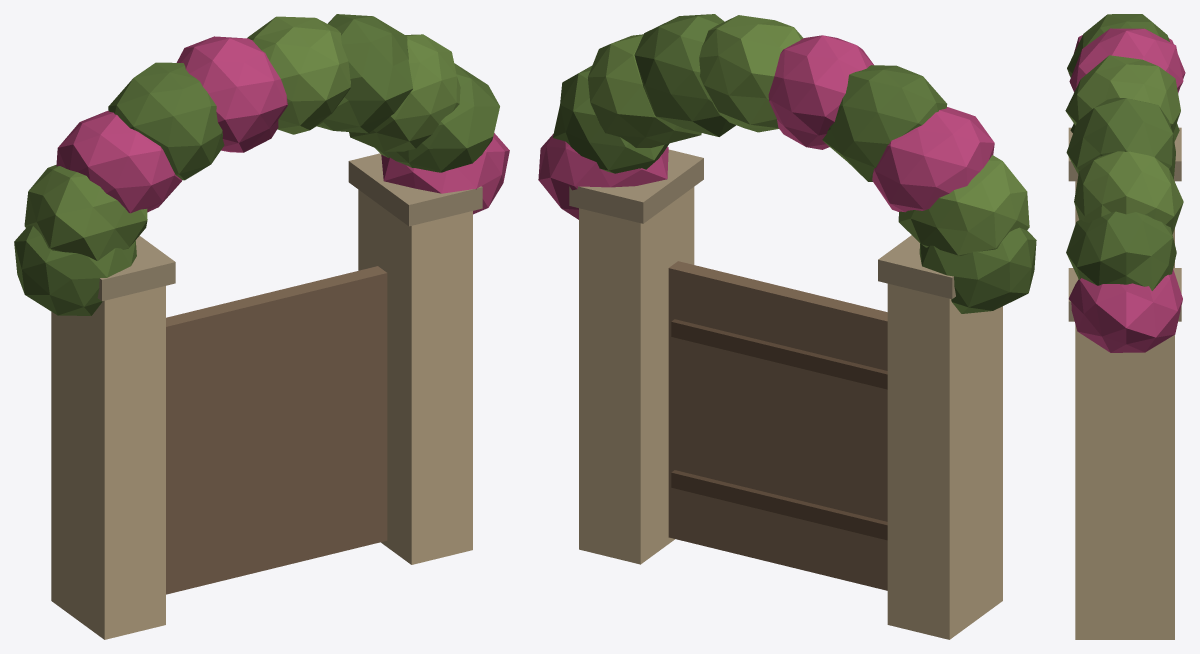
The model's file is bahce-kapisi-asmali.glb.
3 renders of one model, left to right at view 1: azimuth 30°, elevation 25°; view 2: azimuth 150°, elevation 25°; view 3: azimuth 270°, elevation 25°, orthographic. The views are drawn at different scales.
Parts seen in each view (by area): view 1: tas2, ahsap, asma2, asma, begonvil, tas_koyu; view 2: tas2, ahsap, asma2, asma, begonvil, ahsap_koyu, tas_koyu; view 3: tas2, asma2, asma, begonvil, tas_koyu.
Boxes of the visible parts, x1,y1,x2,y2 form: tas2: [51, 189, 472, 639]; ahsap: [166, 266, 387, 594]; asma2: [14, 14, 499, 315]; asma: [24, 16, 460, 260]; begonvil: [56, 36, 509, 214]; tas_koyu: [97, 153, 482, 301]; tas2: [579, 187, 1002, 639]; ahsap: [668, 261, 887, 590]; asma2: [552, 14, 1036, 313]; asma: [588, 15, 1029, 256]; begonvil: [538, 35, 994, 219]; ahsap_koyu: [671, 319, 887, 540]; tas_koyu: [569, 149, 955, 298]; tas2: [1075, 181, 1174, 639]; asma2: [1066, 14, 1179, 290]; asma: [1065, 55, 1183, 234]; begonvil: [1068, 28, 1185, 352]; tas_koyu: [1068, 127, 1181, 321].
Bounding box in the file's own units: 2.38 × 2.54 × 0.5427.
